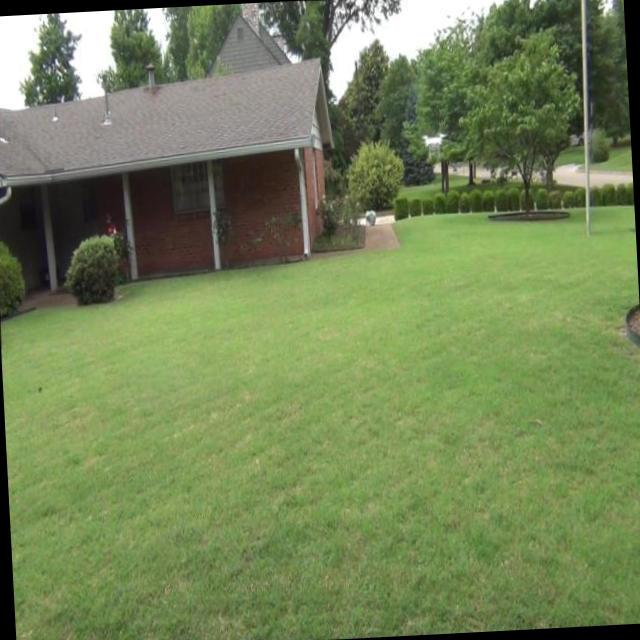drone: (414, 125, 448, 161)
